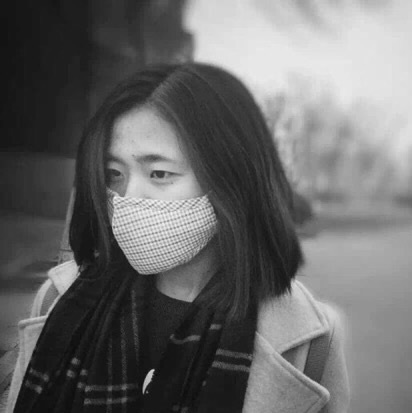face_mask: (102, 114, 211, 275)
